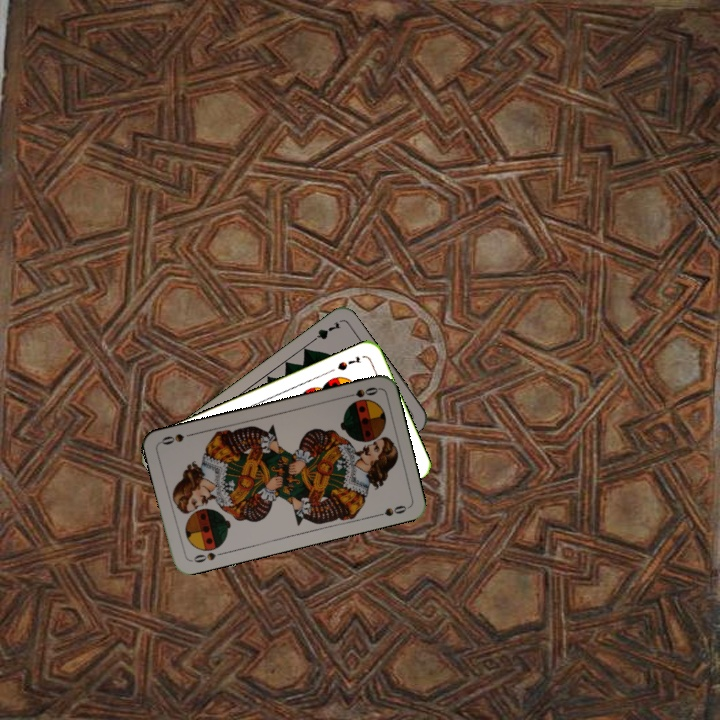G7: (306, 317, 343, 346)
S7: (333, 352, 363, 373)
SO: (340, 383, 380, 400), (187, 548, 227, 565)
